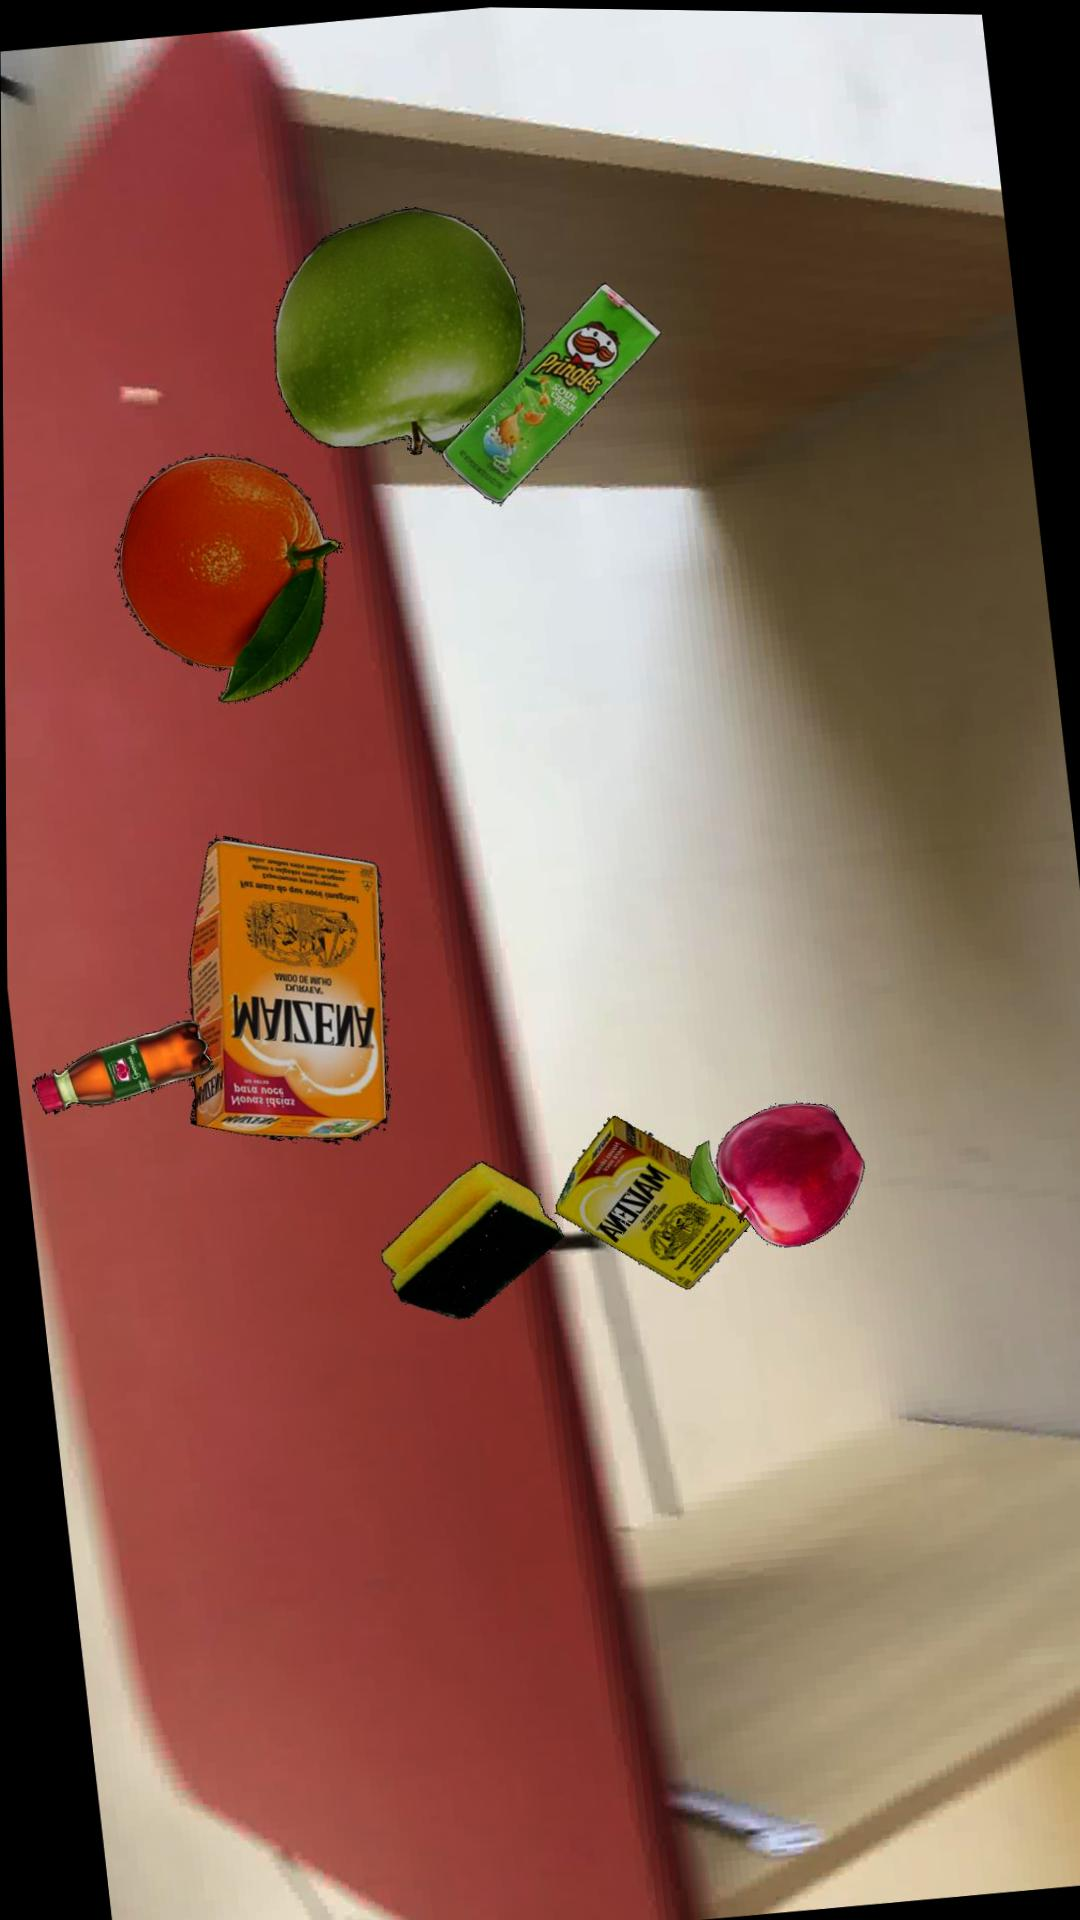apple: (688, 1101, 865, 1246)
green apple: (276, 207, 526, 454)
guarana: (32, 1021, 212, 1116)
orange: (119, 456, 342, 703)
pringles: (443, 282, 663, 504)
sponge: (381, 1160, 564, 1319)
